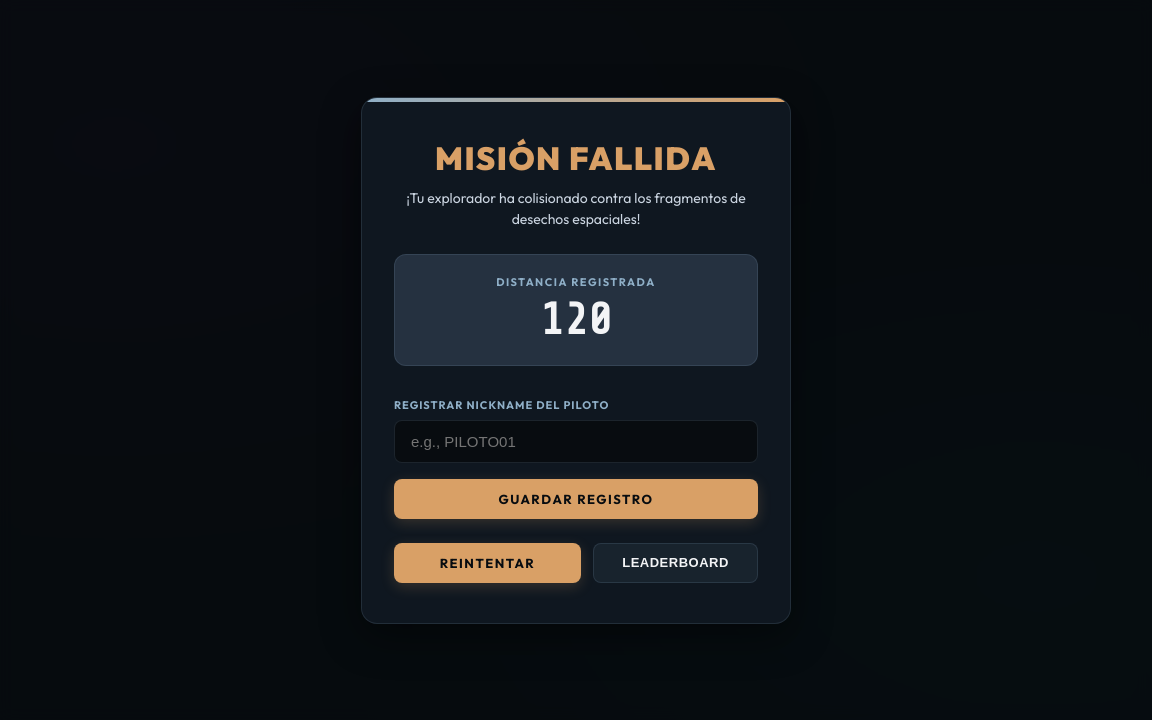
Test: React Component Rendering & Transitions › should display success saving state inside the GameOverModal
# Enter a valid nick
Type "CYBER_PLAYER" into the field labelled "Registrar Nickname del Piloto" at coordinates (576, 441), box [394, 420, 758, 462]
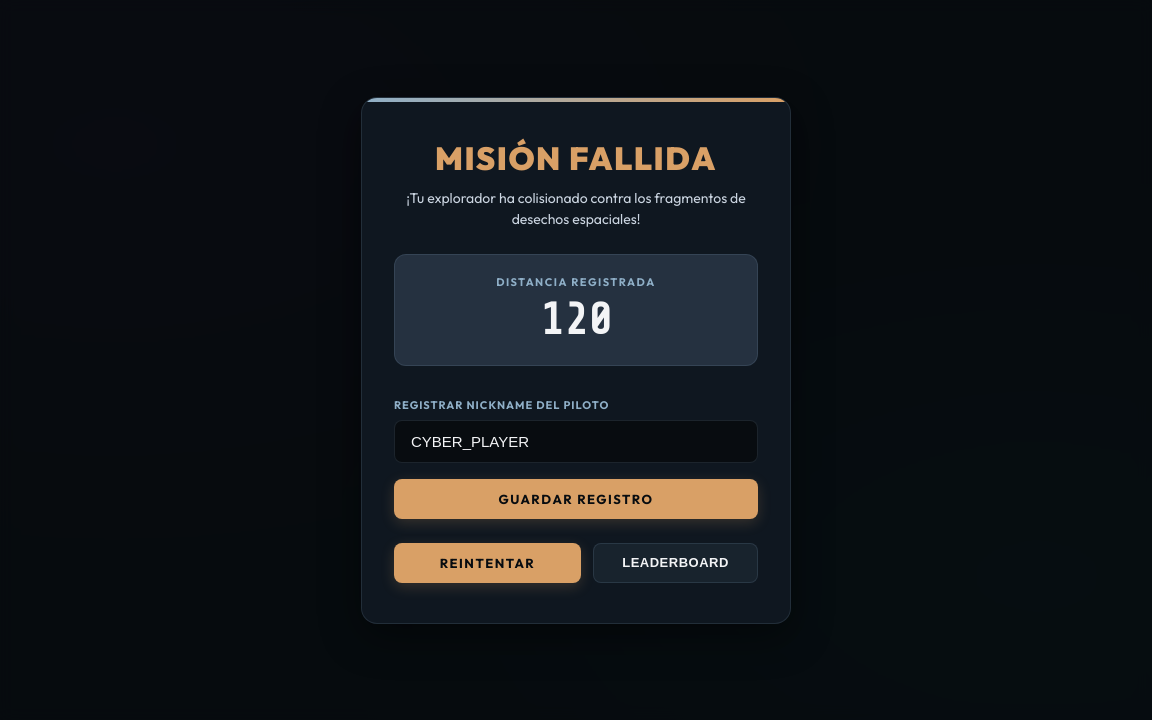
Click the button "Guardar Registro" at coordinates (576, 498), box [394, 478, 758, 518]
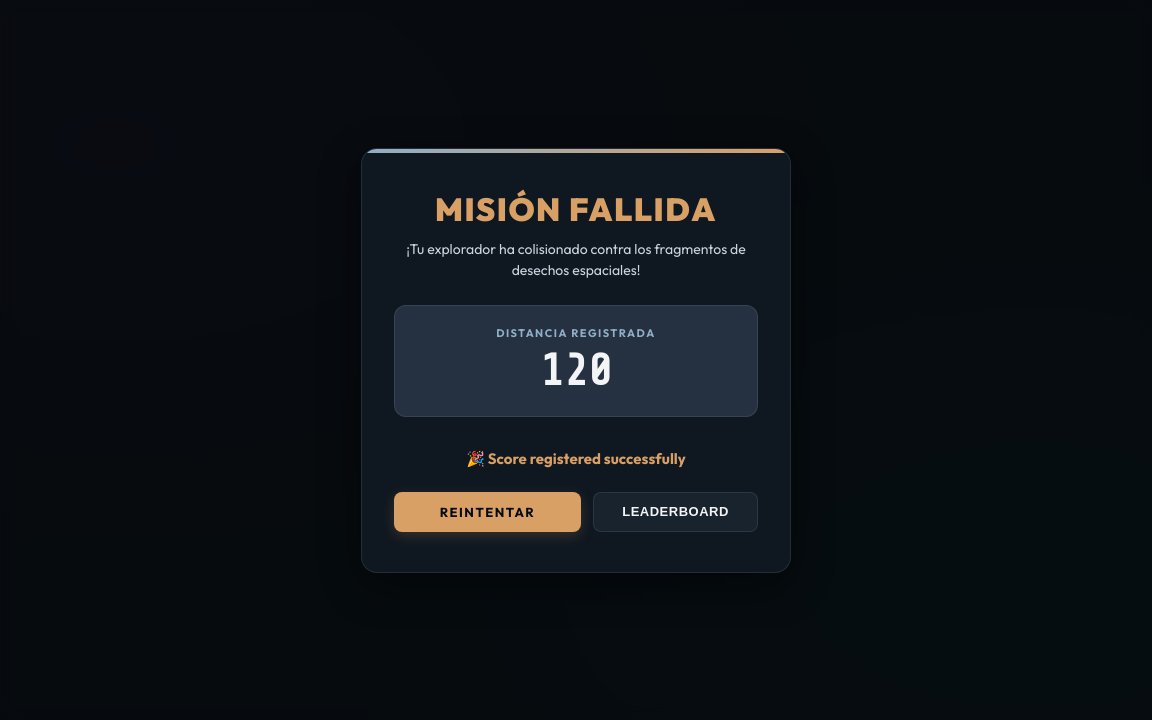
Expected: the text "🎉 Score registered successfully" is shown, [466, 448, 686, 468]
Expected: the text with test id "success-message" shows "registered", [488, 448, 686, 468]
